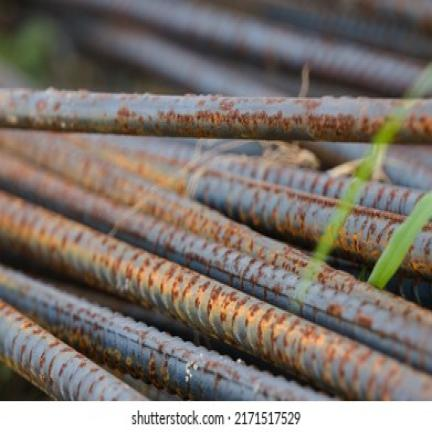karat: (0, 193, 431, 399), (0, 88, 431, 143)
